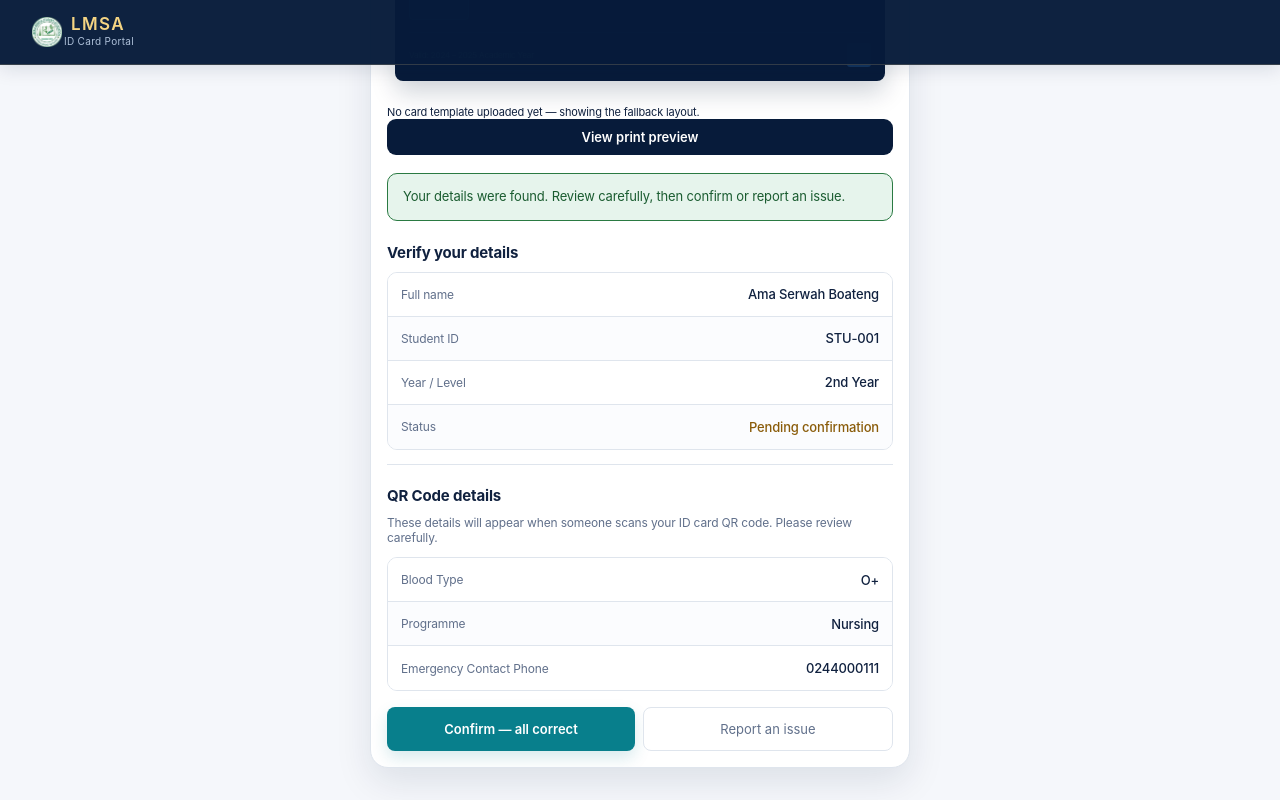
preview correction flow — the student note › asks what the student found wrong, on the step where they already know
(page scrolled)
Click the button "Report an issue" at (768, 729), box [643,707,893,751]
(page scrolled)
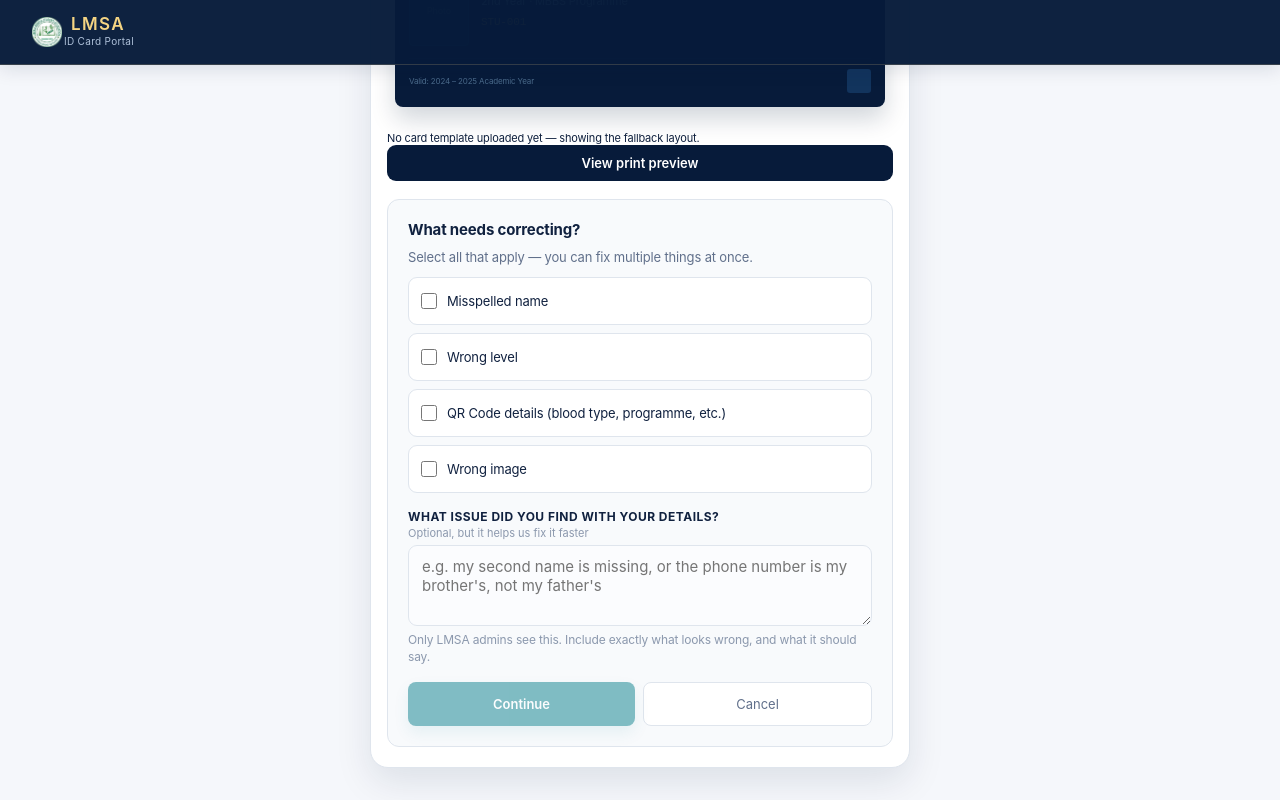
expect the text box labelled "What issue did you find with your details?" is shown: met, box [408,545,872,626]
expect the text "Only LMSA admins see this" is shown: met, box [408,632,856,664]
